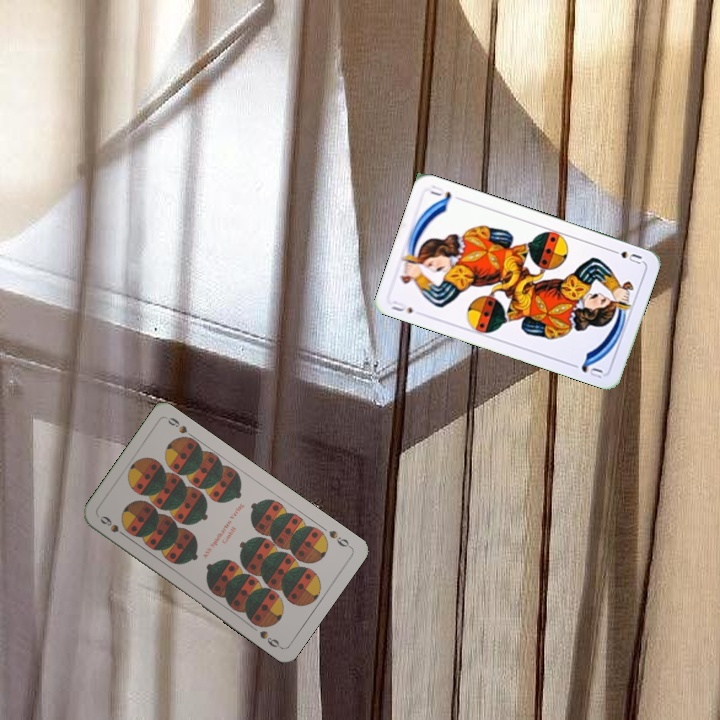S9: (96, 512, 131, 540), (325, 526, 354, 550)
SU: (606, 245, 644, 267), (387, 298, 415, 316)
